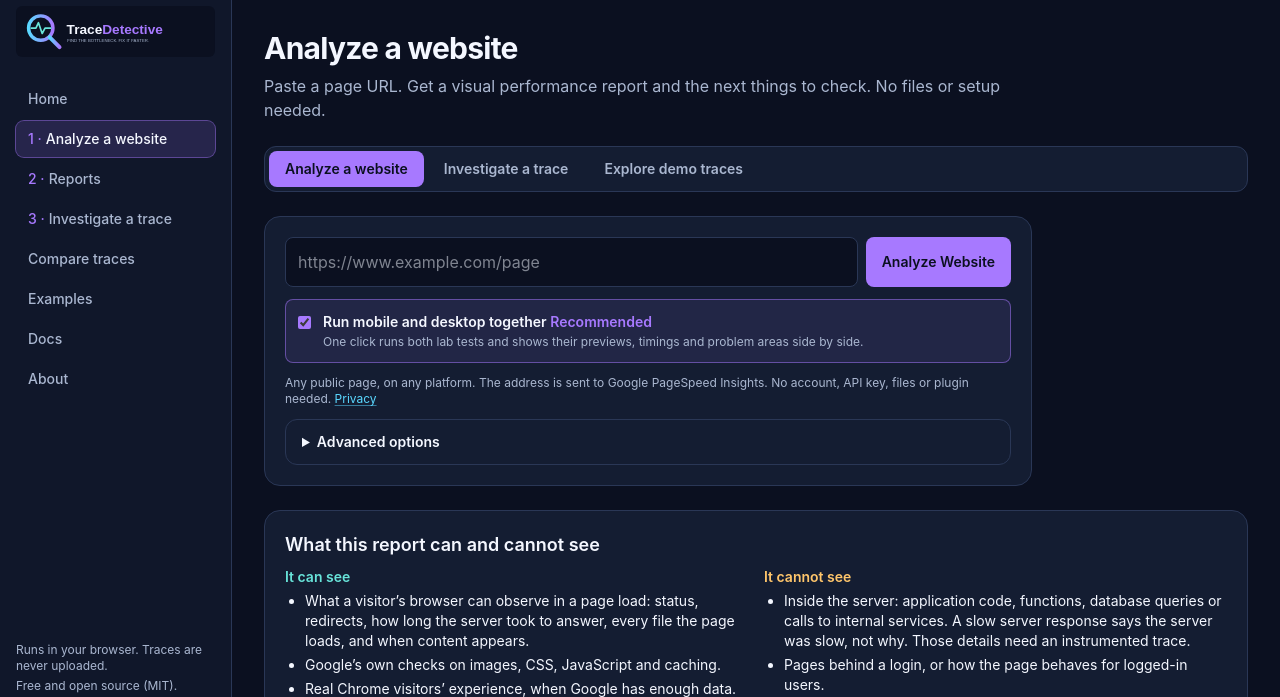
Test case: website analysis › runs the optional browser probe only when chosen
Step 1. Click the heading "Advanced options" → (378,442), box [317,433,440,450]
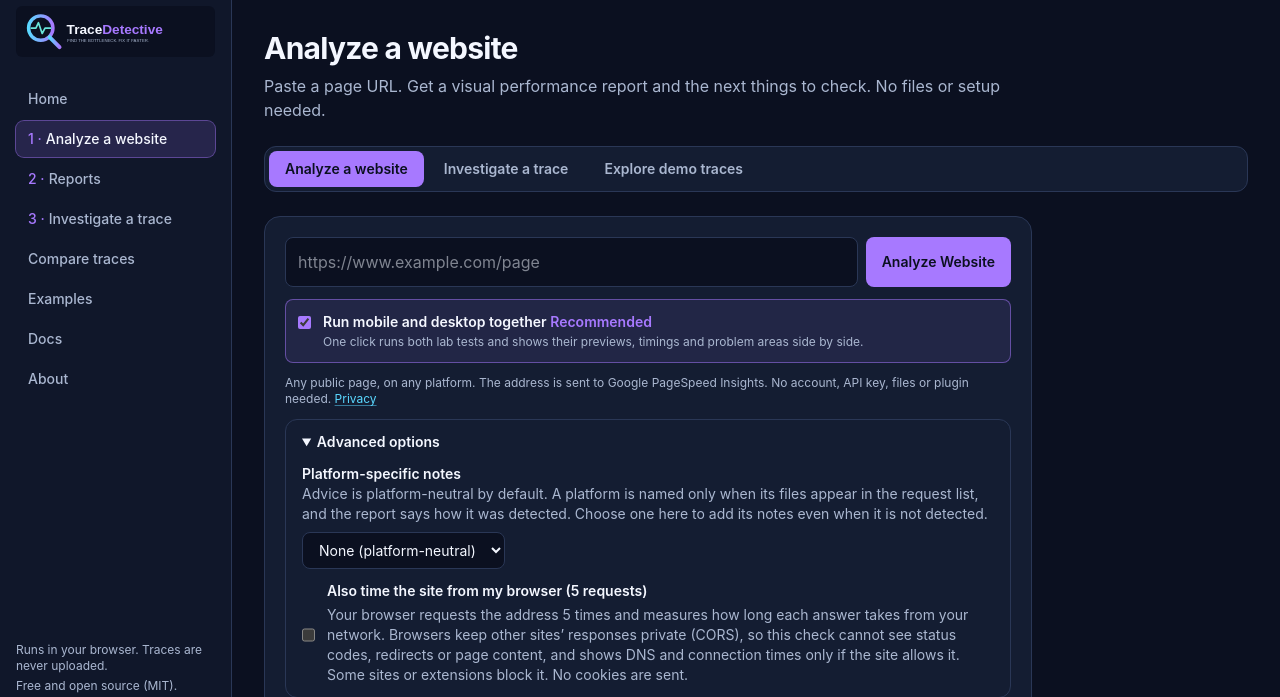
Step 2. Click the checkbox labelled "time the site from my browser" → (308,635), box [302,585,315,685]
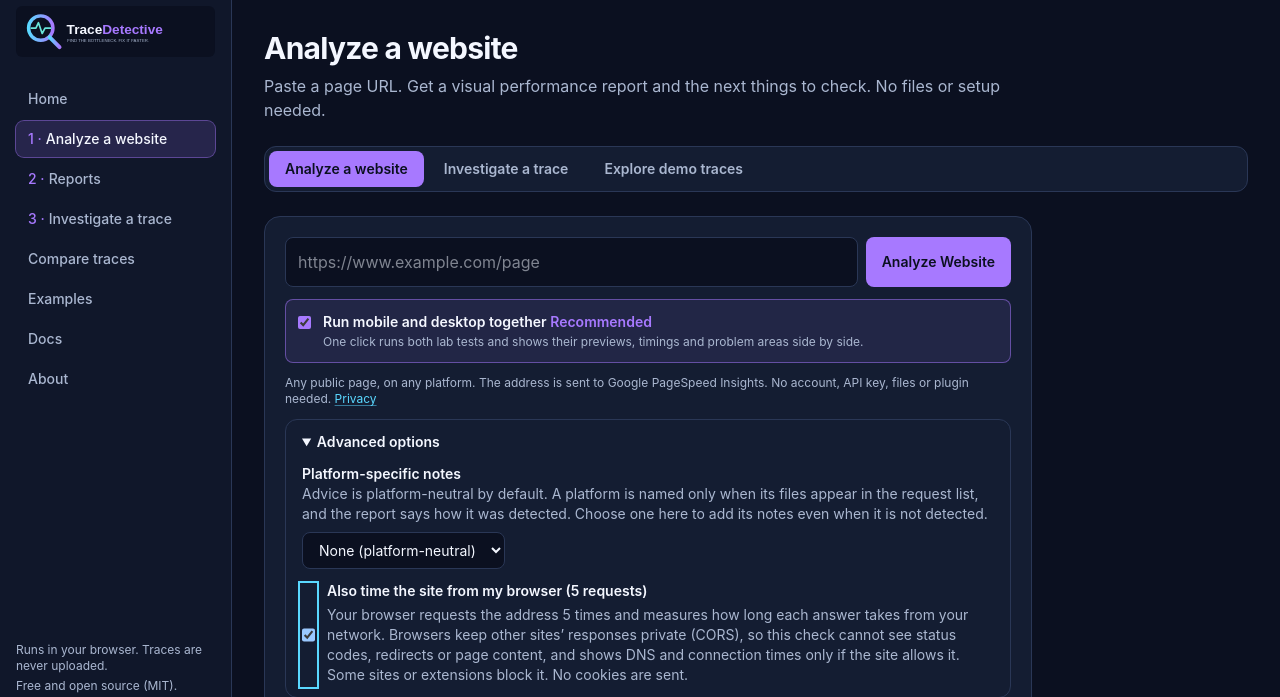
Step 3. Type "example.com" into the field named "Website URL" → (571,262), box [285,237,858,287]
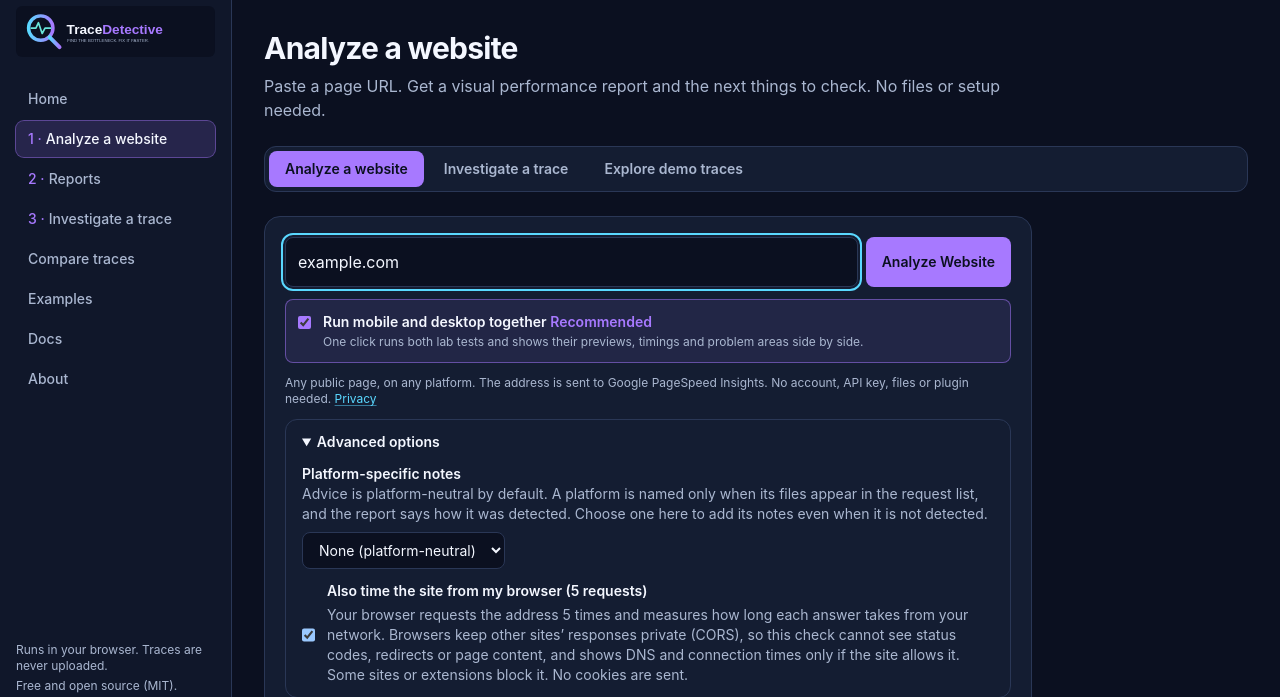
Step 4. Click the button "Analyze Website" → (938,262), box [866,237,1011,287]
(page scrolled)
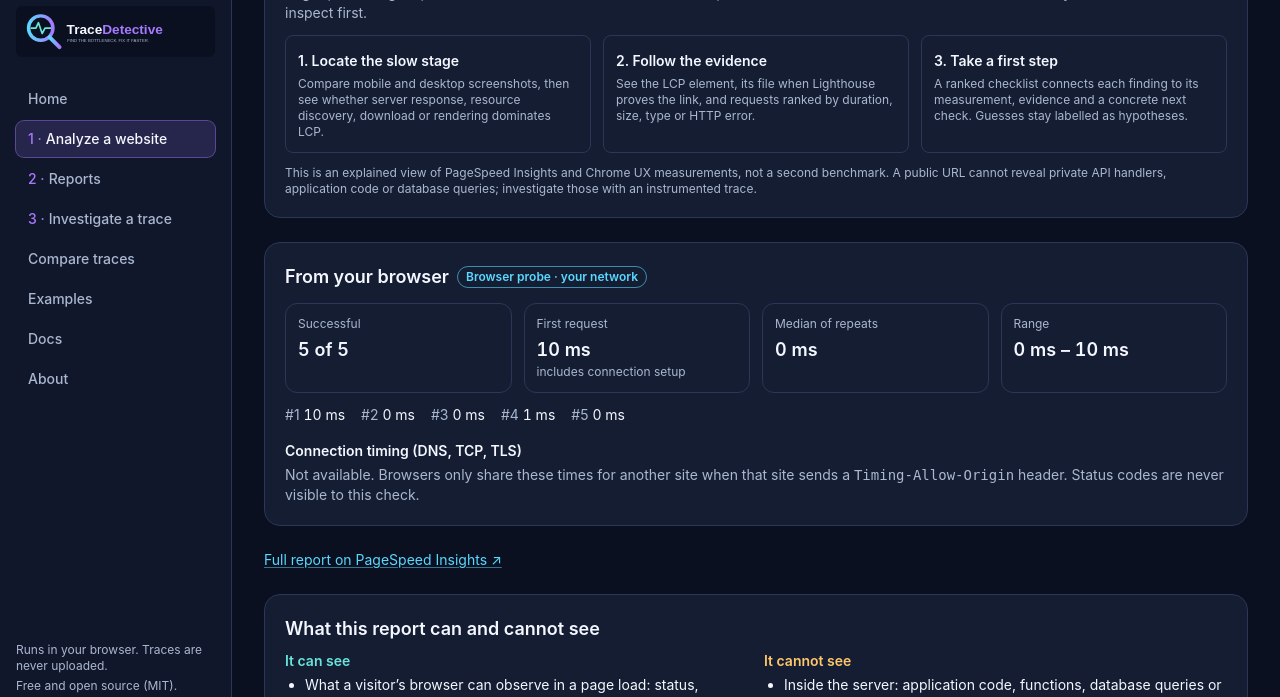
Expected: the heading "From your browser" is shown, [285,263,449,291]
Expected: the text "5 of 5" is shown, [298,339,349,360]
